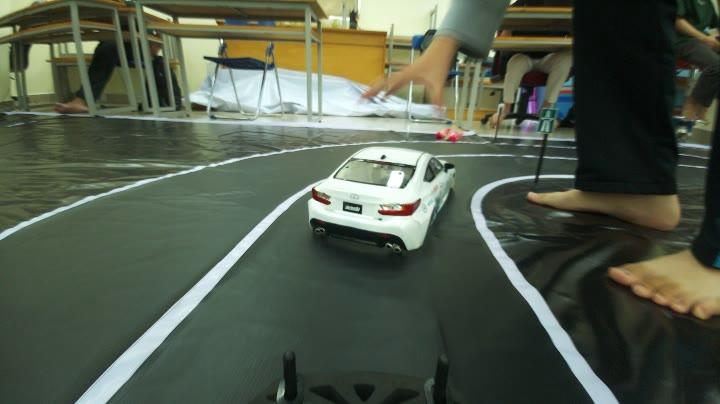car: (310, 134, 454, 266)
highway_entry: (532, 108, 562, 135)
